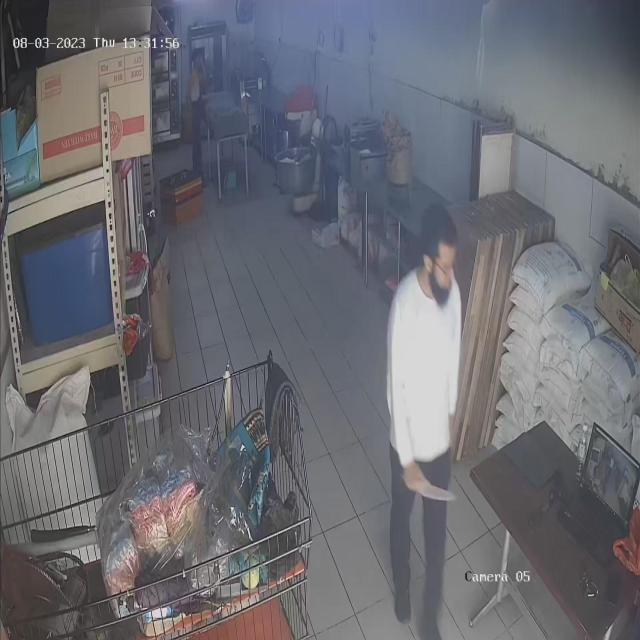Knife: (406, 462, 464, 519)
